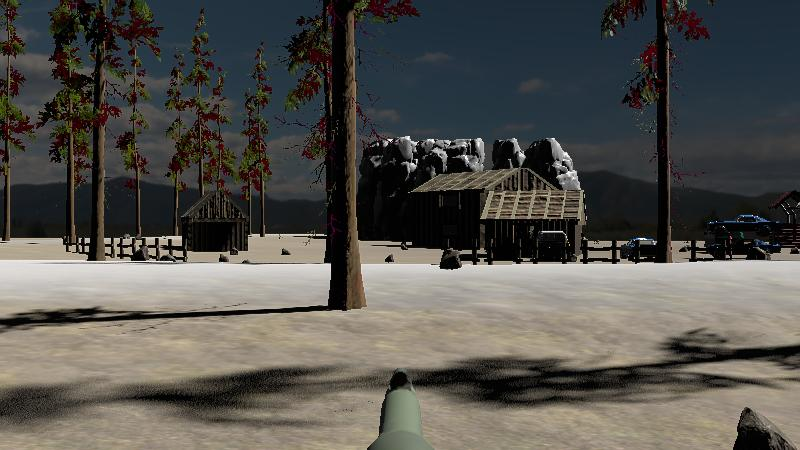House: (480, 187, 588, 262), (179, 188, 252, 252)
car: (707, 213, 778, 239), (703, 236, 780, 259), (531, 228, 577, 263), (618, 235, 669, 263)
